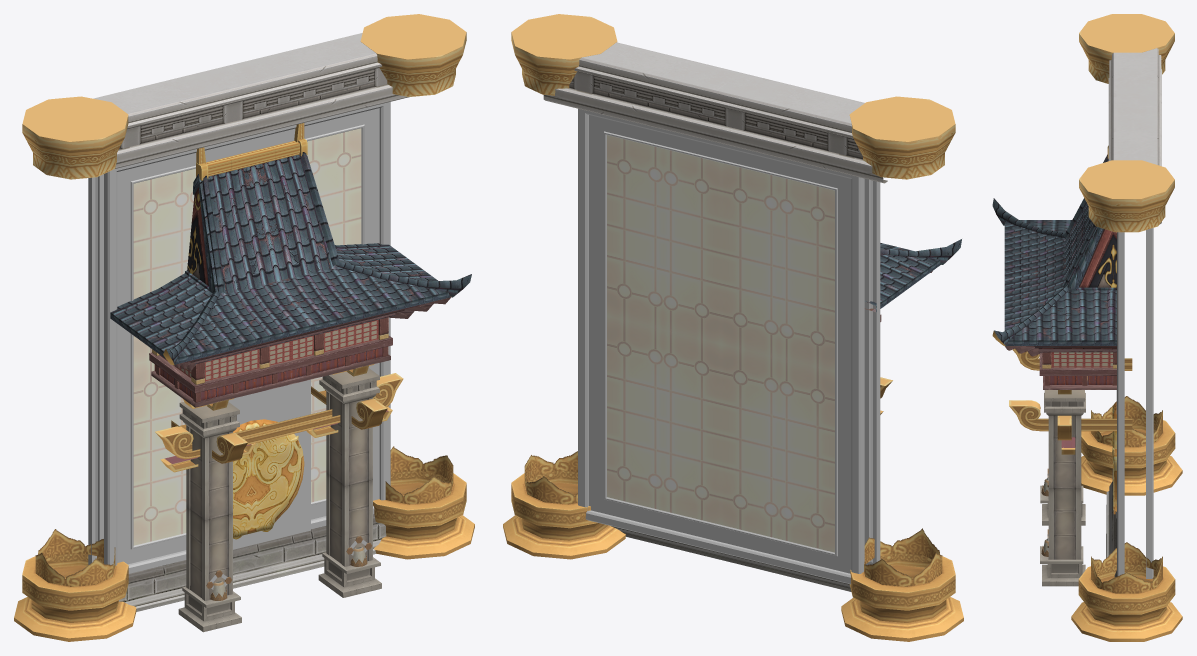
The model's file is mod_zlc_jianzhu059_xy.FBX.
The picture shows the model from 3 angles, left to right: view 1: azimuth 30°, elevation 25°; view 2: azimuth 150°, elevation 25°; view 3: azimuth 270°, elevation 25°; orthographic projection. The views are drawn at different scales.
Visible parts, largest first — view 1: mod_zlc_jianzhu059_xy; view 2: mod_zlc_jianzhu059_xy; view 3: mod_zlc_jianzhu059_xy.
Part boxes in pixels (left/top/right/bottom): mod_zlc_jianzhu059_xy: left=14, top=14, right=474, bottom=641; mod_zlc_jianzhu059_xy: left=503, top=14, right=963, bottom=641; mod_zlc_jianzhu059_xy: left=992, top=14, right=1182, bottom=641.
Size of the model in its own units: 838 by 902 by 352.
